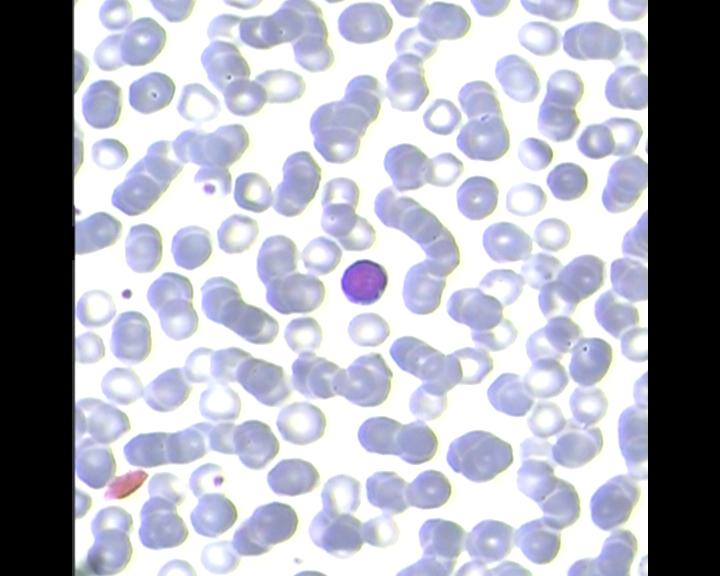lymp: (333, 255, 390, 312)
